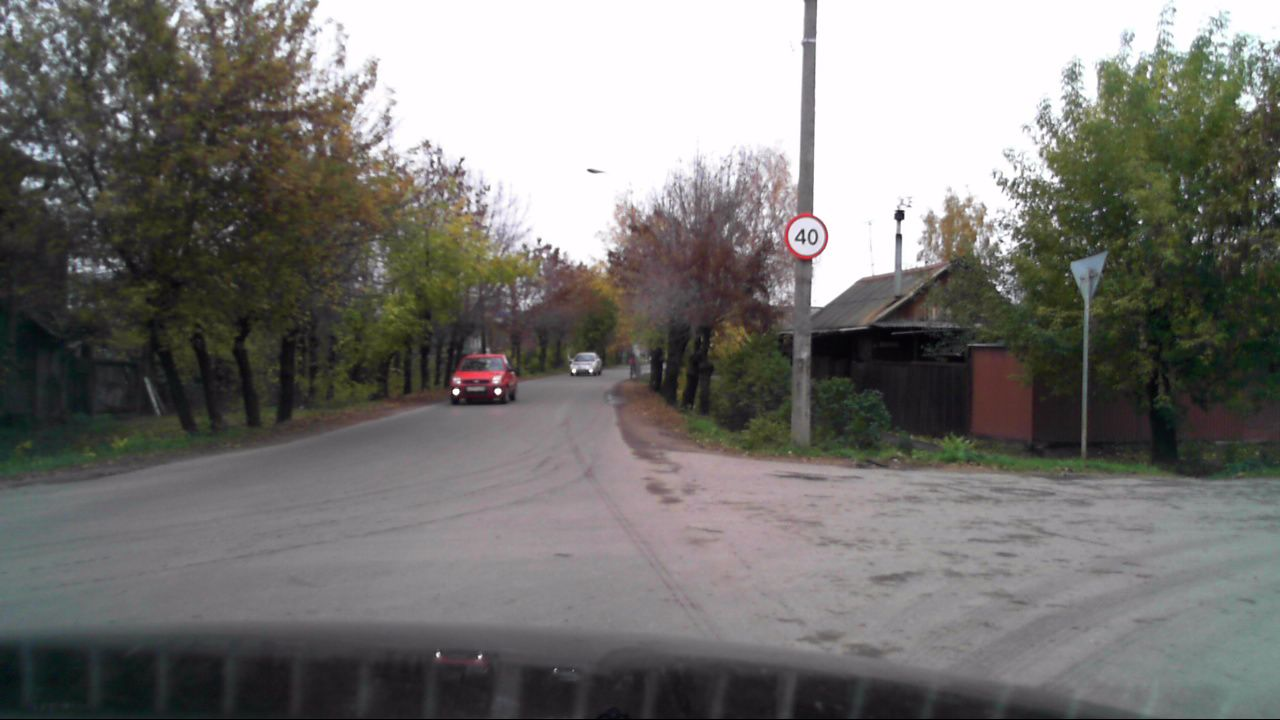speed_warning_40: (784, 214, 829, 260)
